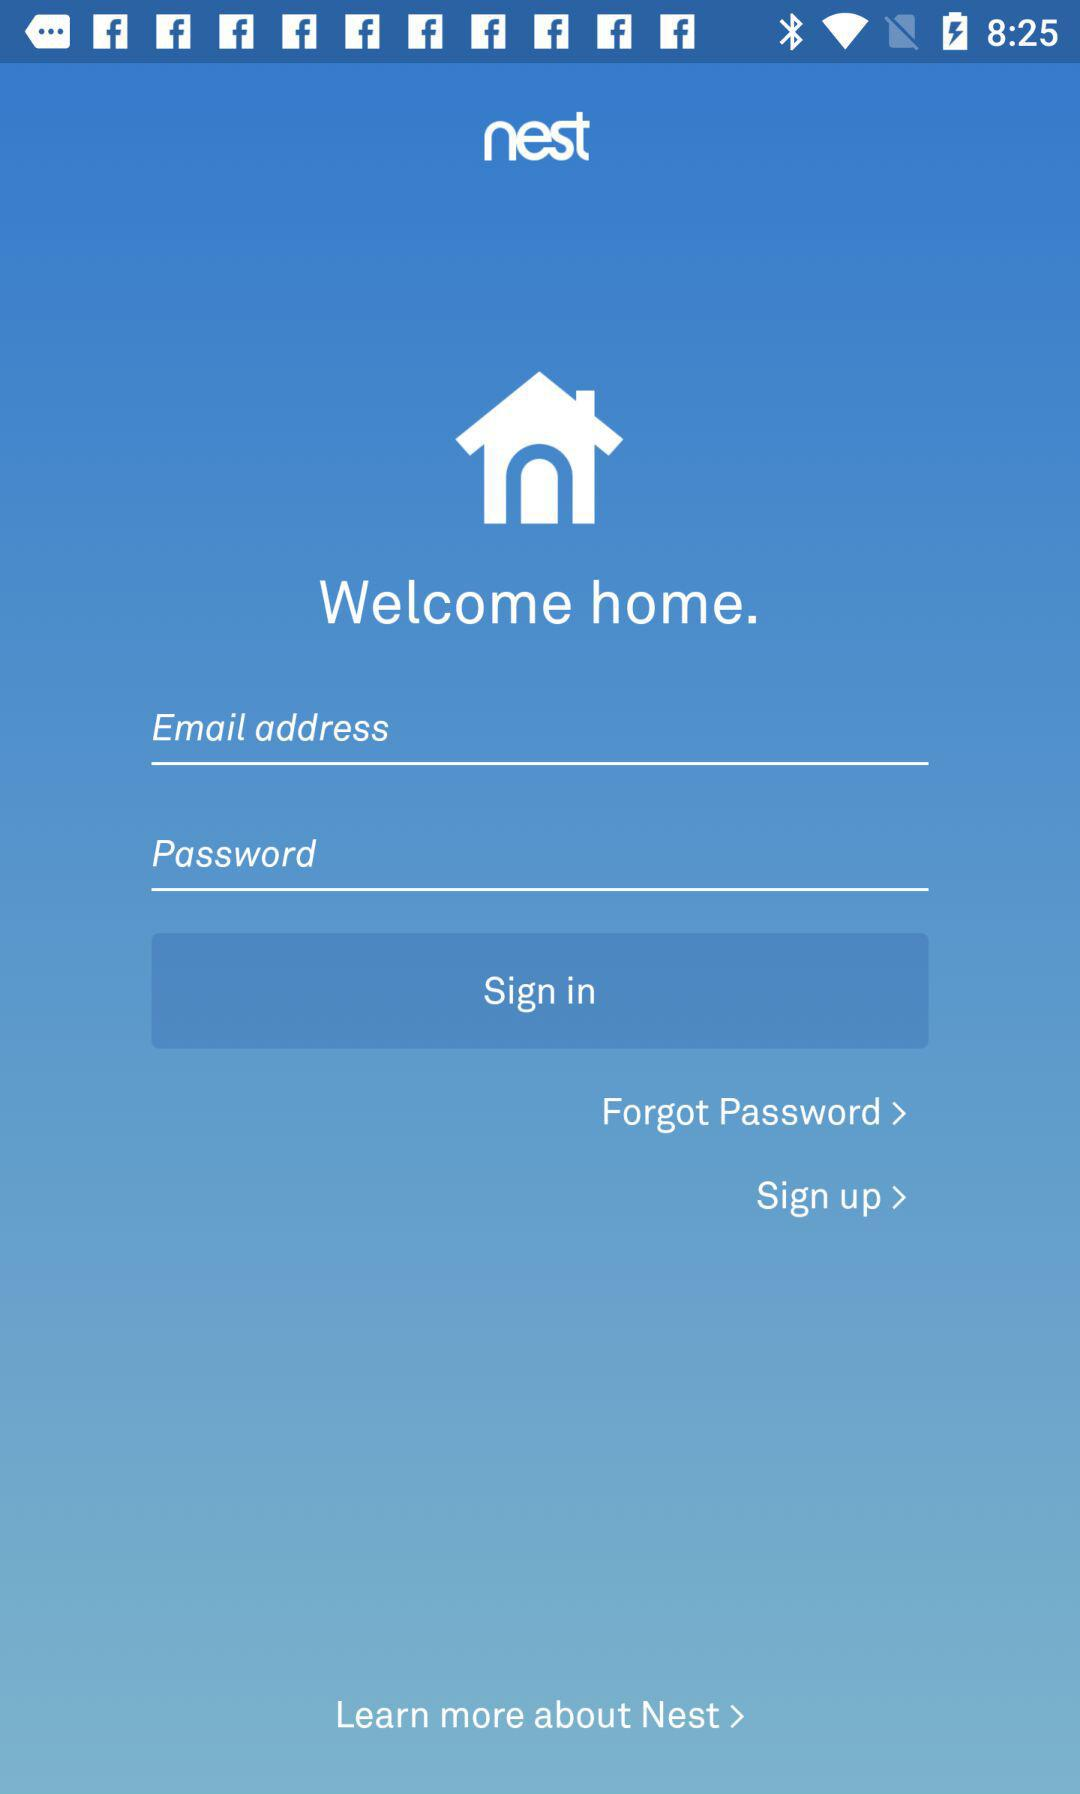EditText: (151, 838, 930, 893), (151, 712, 930, 768)
Icon: (455, 372, 625, 525), (890, 1184, 907, 1211), (890, 1099, 907, 1126)
Image: (483, 111, 592, 164)
Text: (319, 578, 758, 627), (337, 1698, 746, 1730), (602, 1096, 881, 1135), (152, 712, 389, 743), (152, 838, 316, 869), (756, 1179, 881, 1219)
TextButton: (152, 933, 929, 1049)
UpperTaskBar: (1, 1, 1080, 64)
